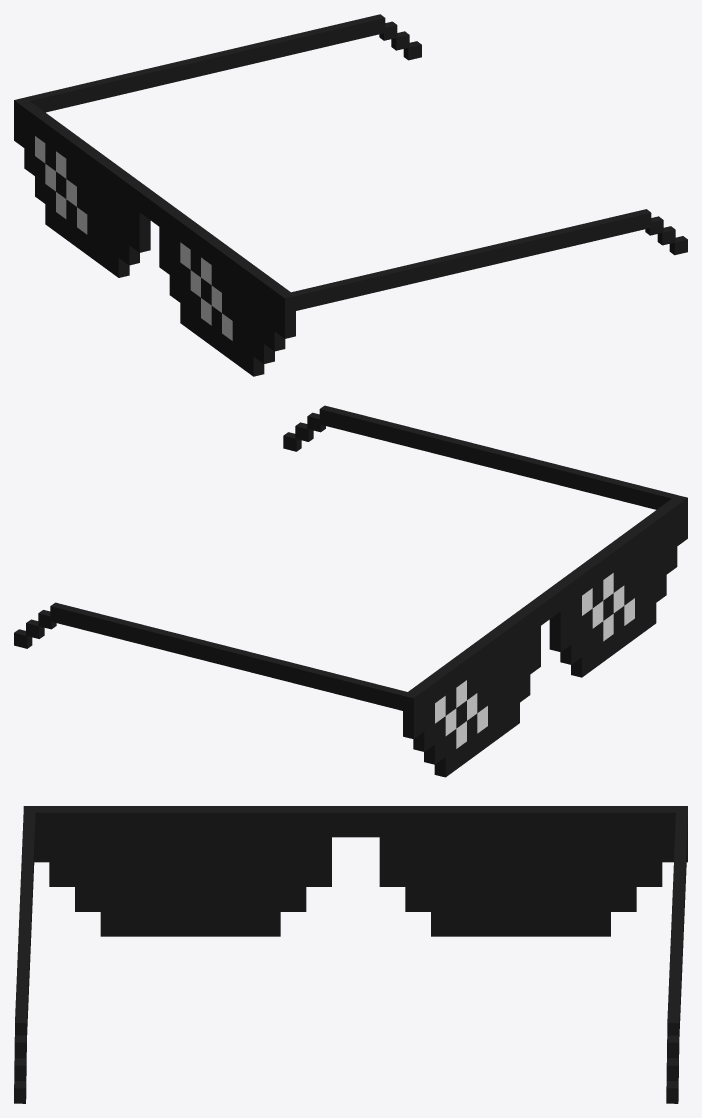
File: glasses.gltf
3 views of the same model, one above another, from view 1: azimuth 30°, elevation 25°; view 2: azimuth 150°, elevation 25°; view 3: azimuth 270°, elevation 25° (orthographic). The views are drawn at different scales.
Visible parts, largest first — view 1: cube (×4); view 2: cube (×4); view 3: cube (×103).
Part boxes in pixels (bbox=[...]): cube (×4): bbox=[25, 14, 651, 318]; cube (×4): bbox=[50, 405, 676, 718]; cube (×103): bbox=[15, 806, 687, 1036].
Size of the model in its own units: 1.03 by 0.25 by 1.23.
Materials: 1 (1 with a texture image).
